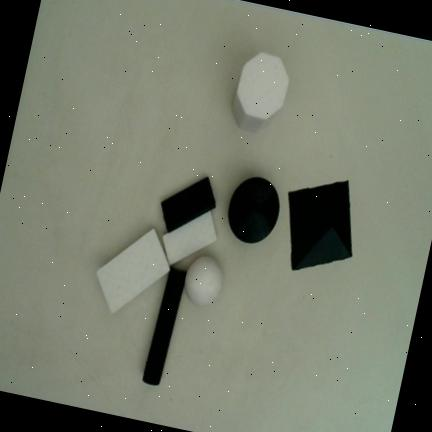Cilindro: (142, 268, 187, 386)
Esfera: (228, 177, 280, 244), (185, 257, 223, 306)
Paralelepipedo: (95, 227, 170, 315), (160, 176, 216, 233), (162, 210, 217, 266)
Piramide: (288, 180, 351, 272)
Prisma_hexagonal: (233, 52, 290, 132)
